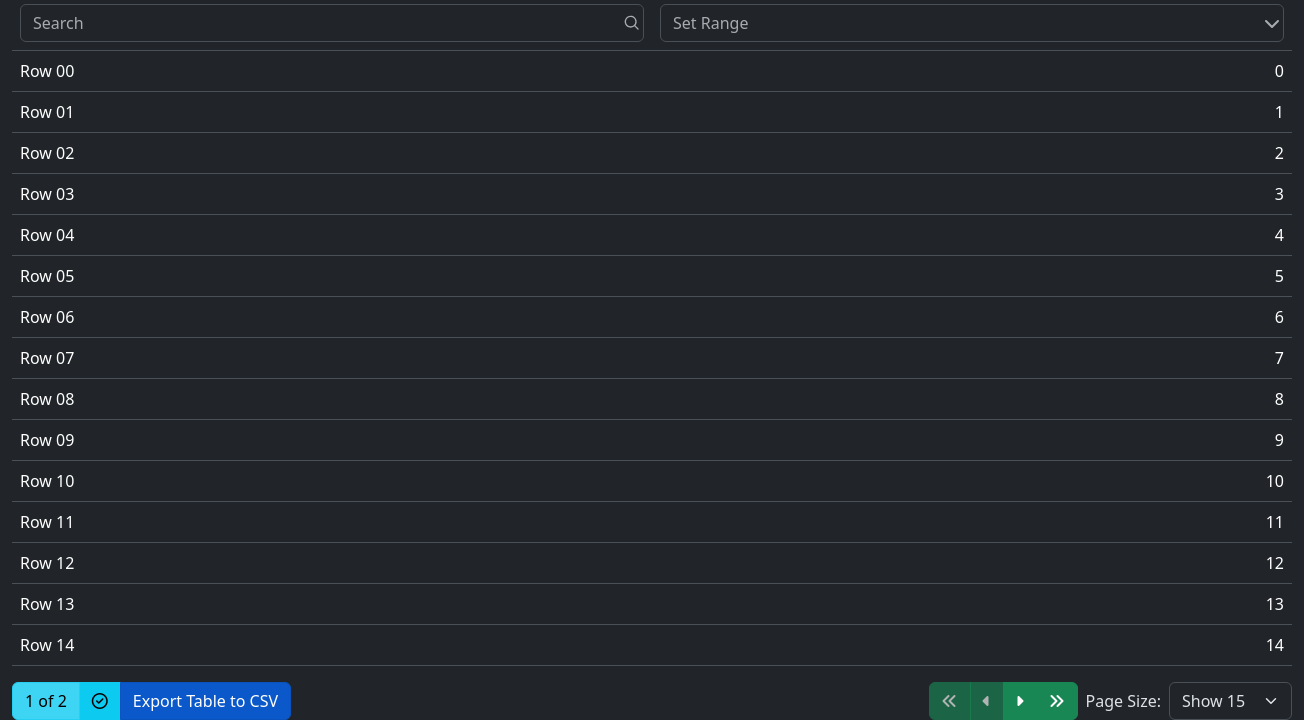
Scenario: BaseTable › navigates pages and disables prev/first on the first page, next/last on the last
(page scrolled)
Expected: the 6th button is disabled, x1=929 y1=682 x2=971 y2=719
Expected: the 7th button is disabled, x1=970 y1=682 x2=1004 y2=719
Click the 9th button.
click(1057, 701)  # box x1=1036 y1=682 x2=1078 y2=719
(page scrolled)
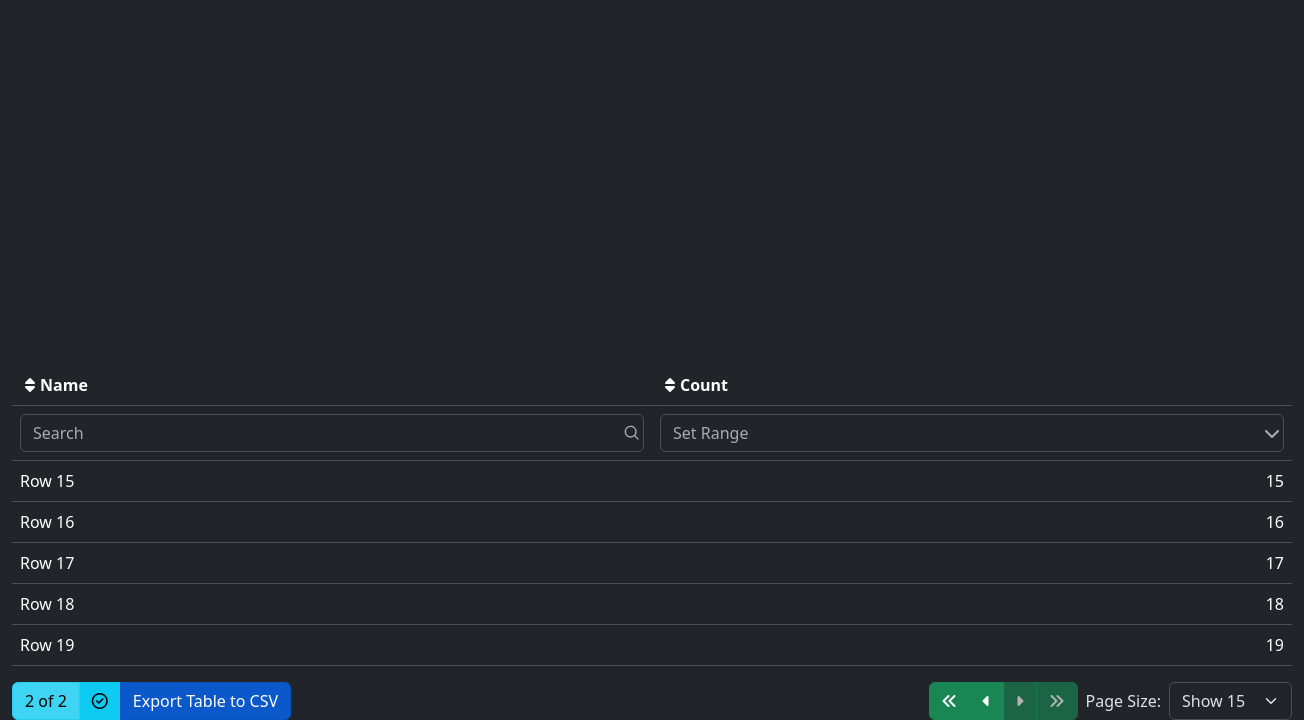
Expected: the button "2 of 2" is shown, x1=12 y1=682 x2=80 y2=719
Expected: the 8th button is disabled, x1=1003 y1=682 x2=1037 y2=719
Expected: the 9th button is disabled, x1=1036 y1=682 x2=1078 y2=719
Click the 6th button.
click(950, 701)  # box x1=929 y1=682 x2=971 y2=719
(page scrolled)
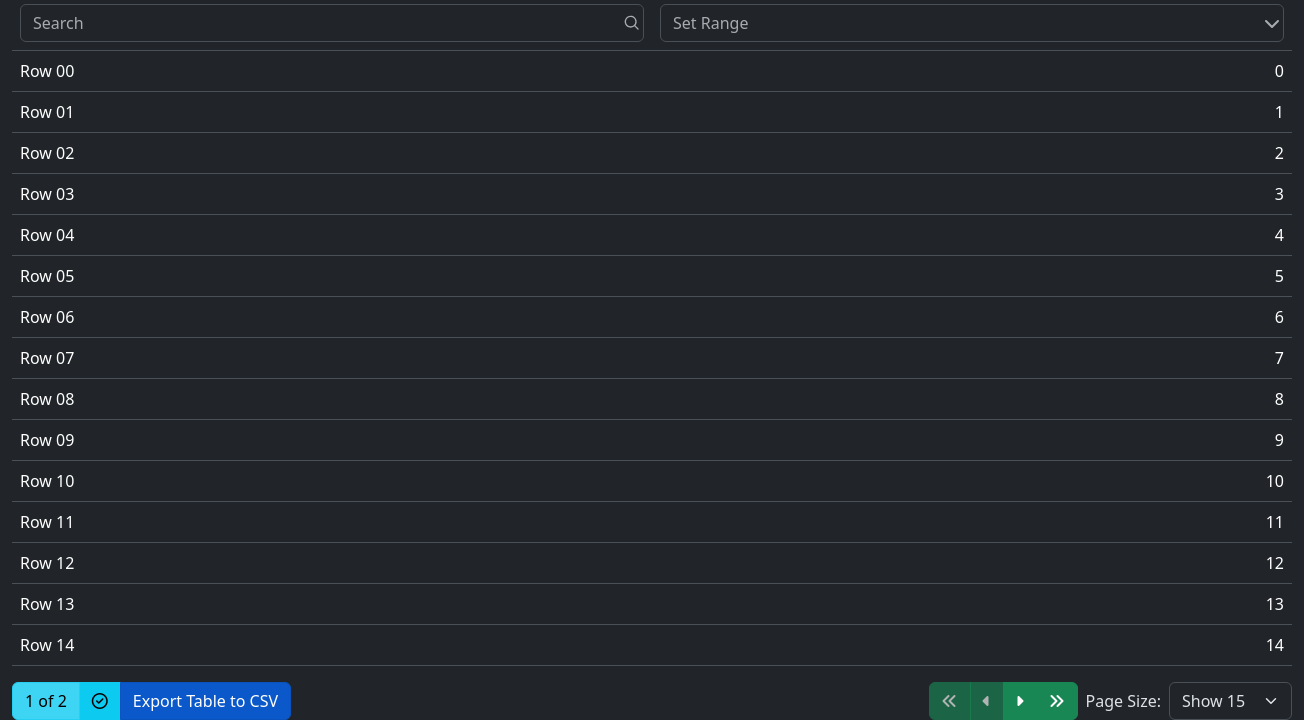
Expected: the button "1 of 2" is shown, x1=12 y1=682 x2=80 y2=719
